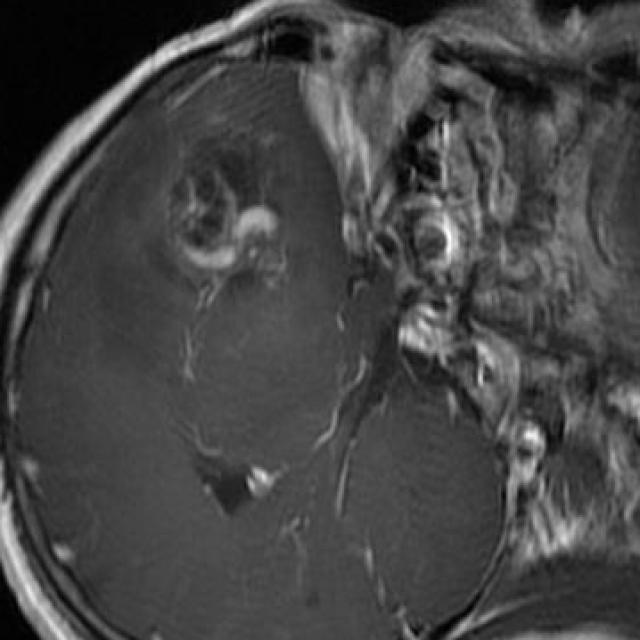glioma: (153, 130, 285, 296)
